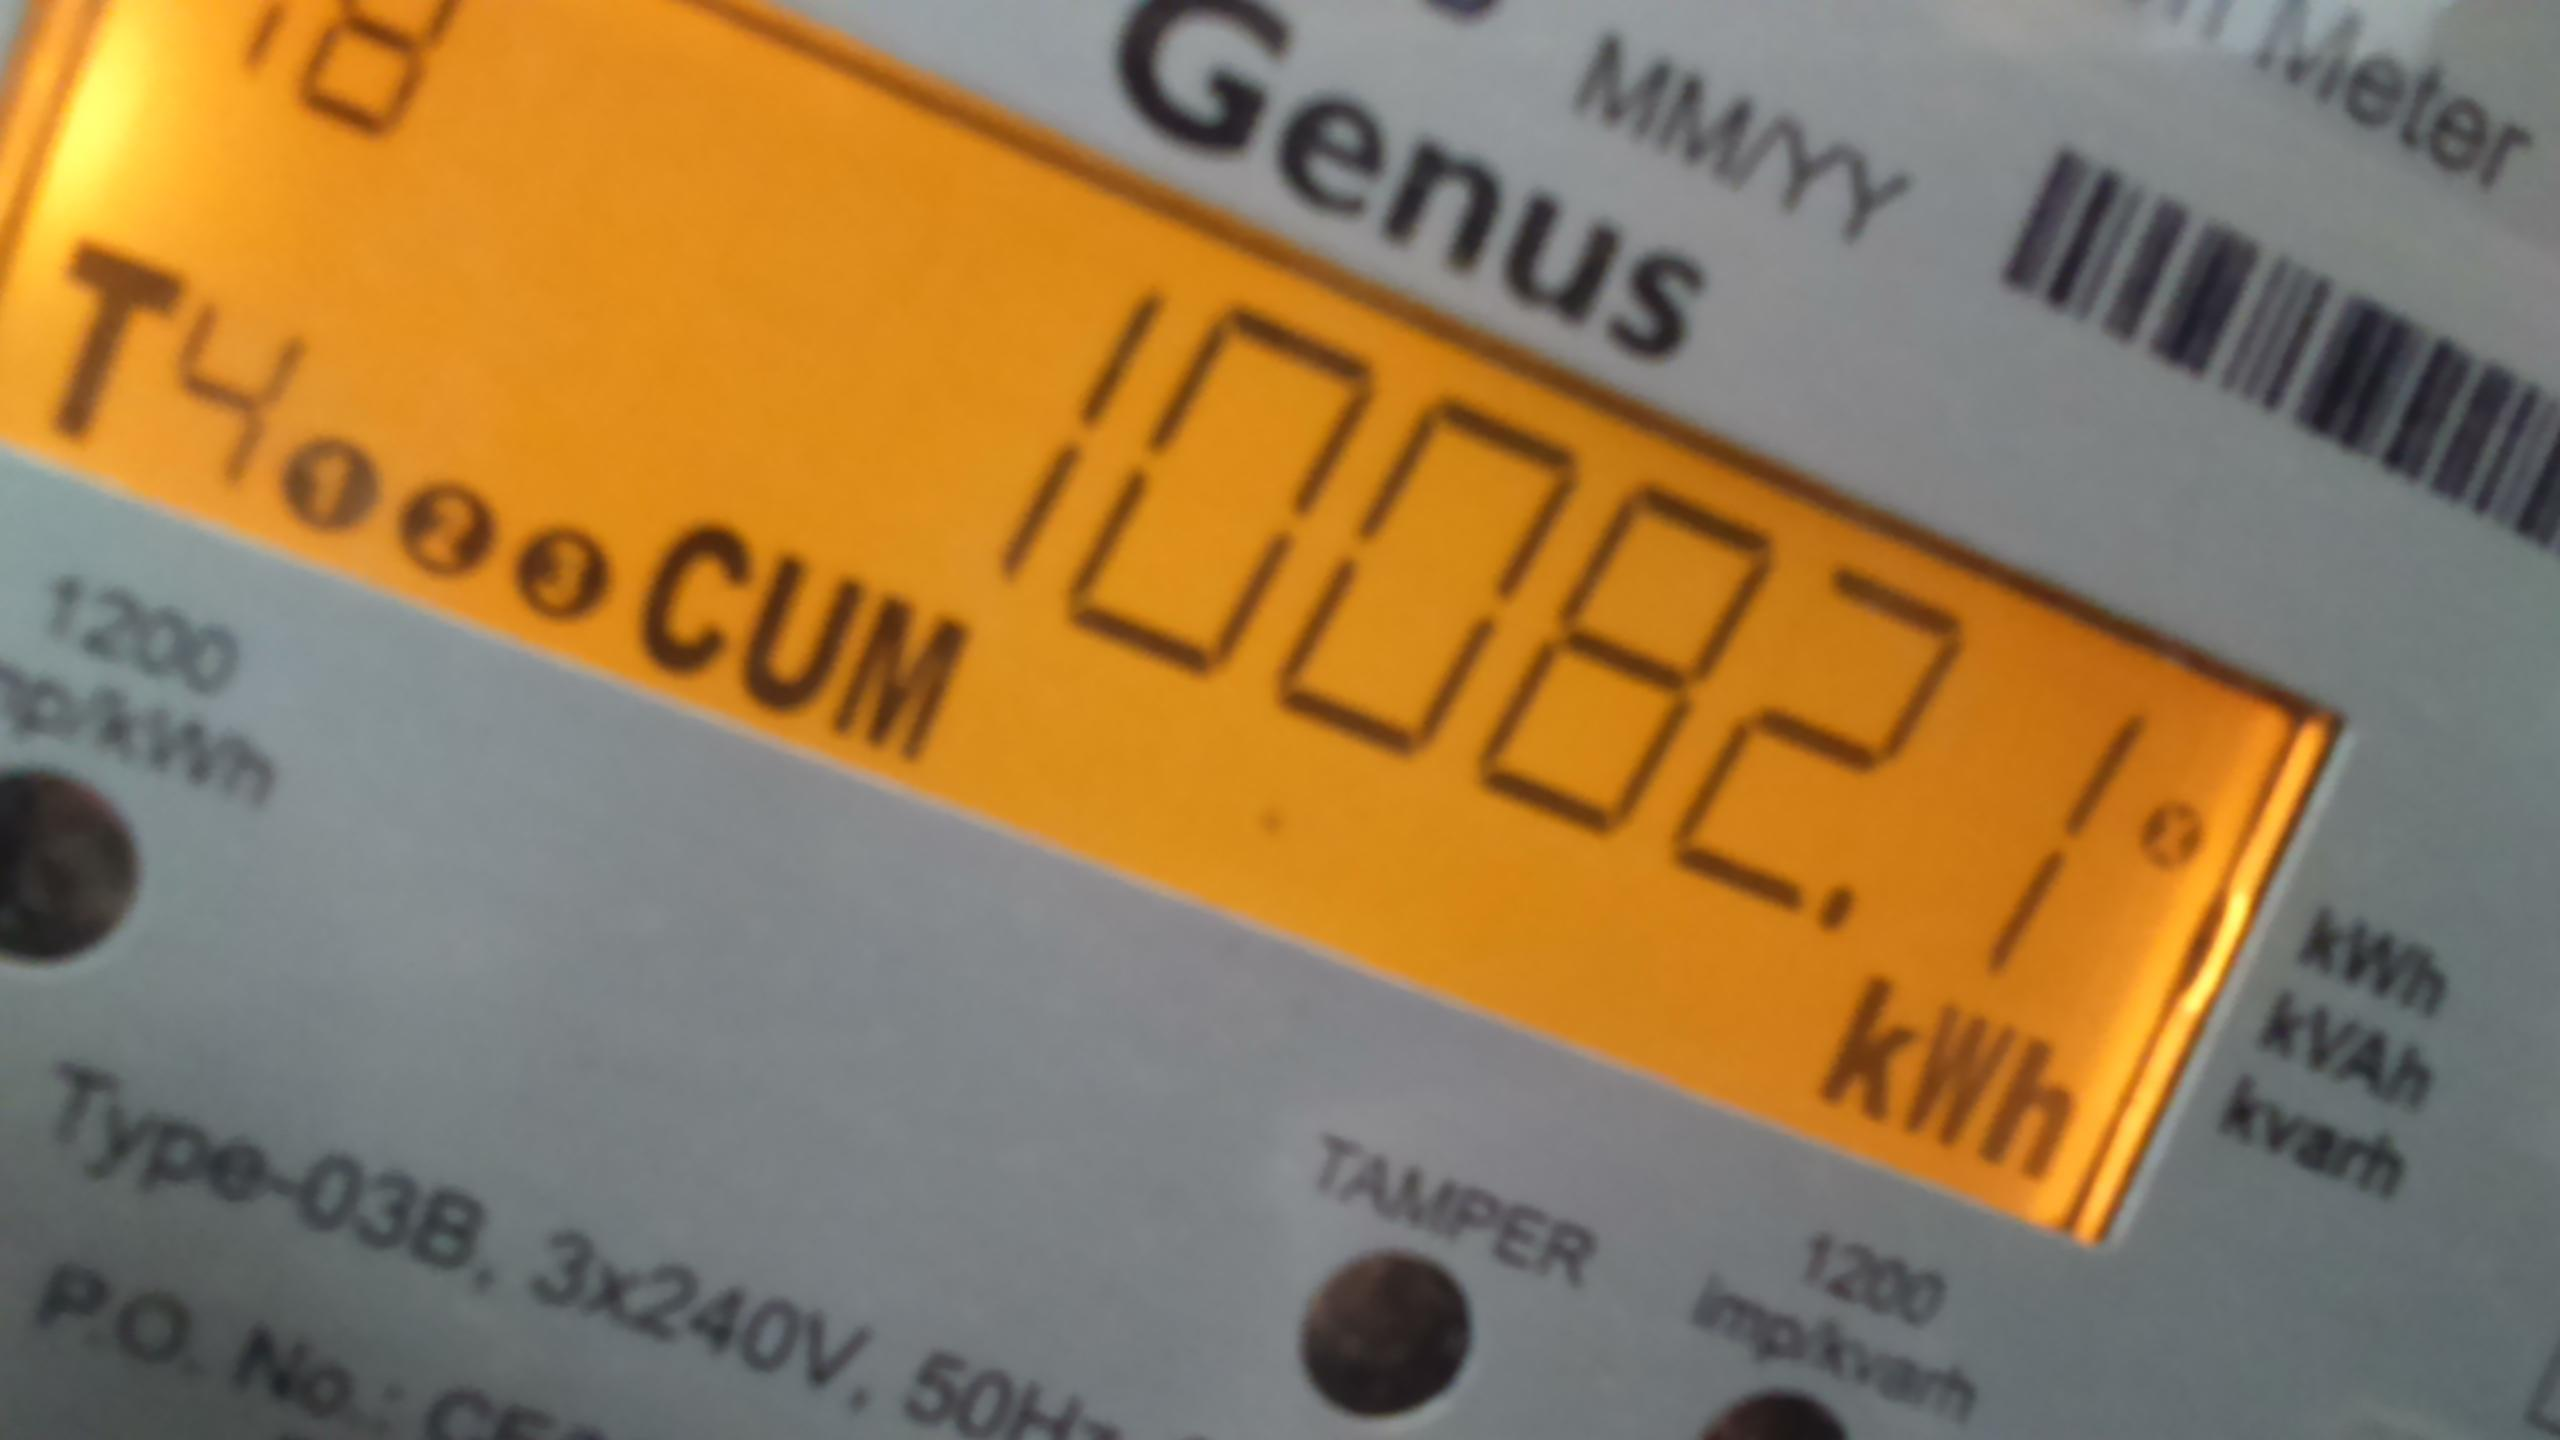.: (1807, 967, 2092, 1185)
0: (1785, 863, 1873, 958)
1: (1044, 288, 1357, 689), (1264, 359, 1577, 737)
2: (971, 213, 1197, 626), (1957, 654, 2171, 1013)
3: (1658, 524, 1962, 916)
9: (1465, 413, 1781, 862)
